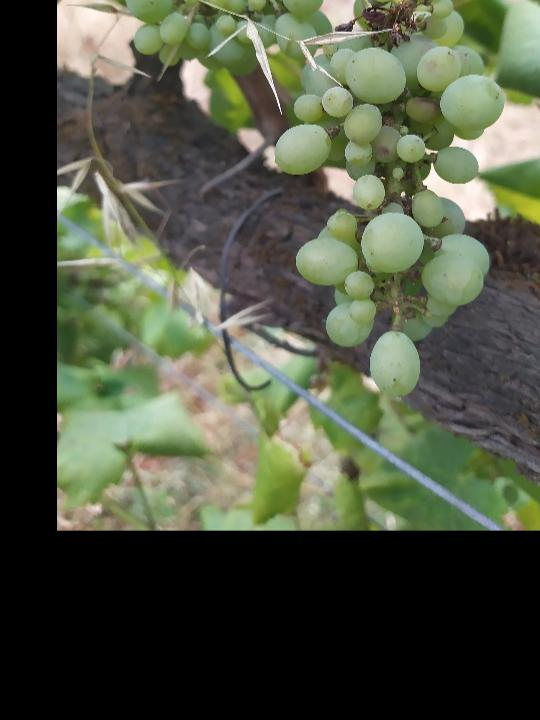grape: (270, 0, 509, 403)
